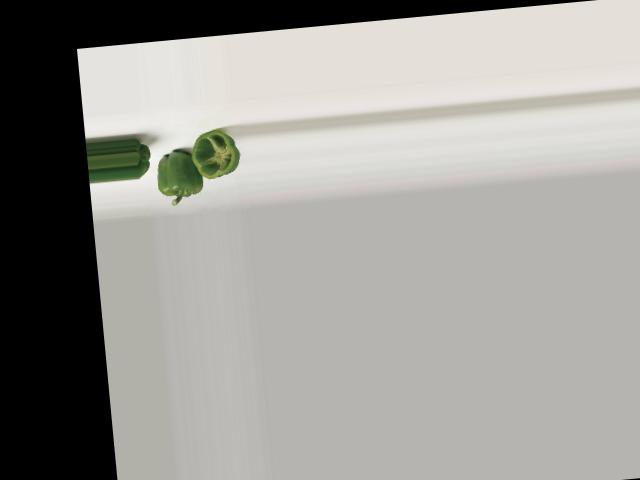bell_pepper: (186, 124, 244, 185)
